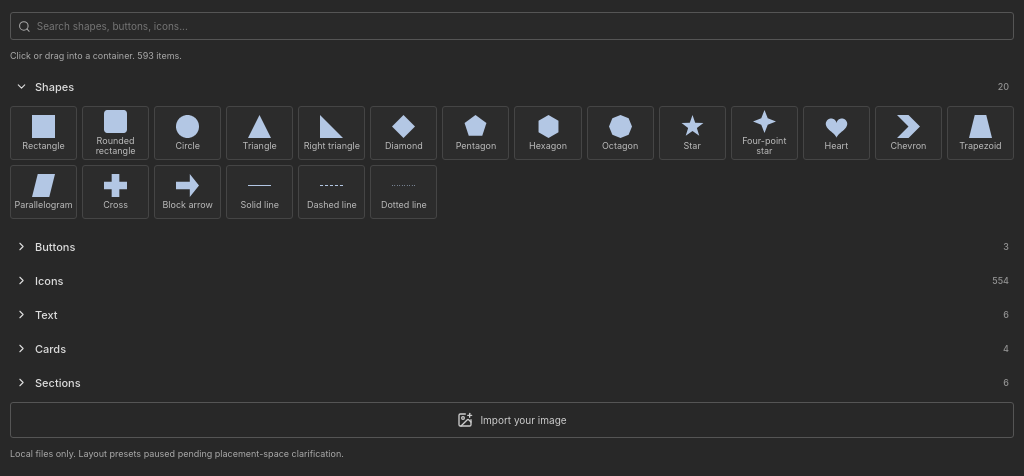
Elements accordions › reveals search matches across collapsed groups and restores prior expansion on clearing
Click the button "Shapes 20" at (55, 87), box [10,72,1014,101]
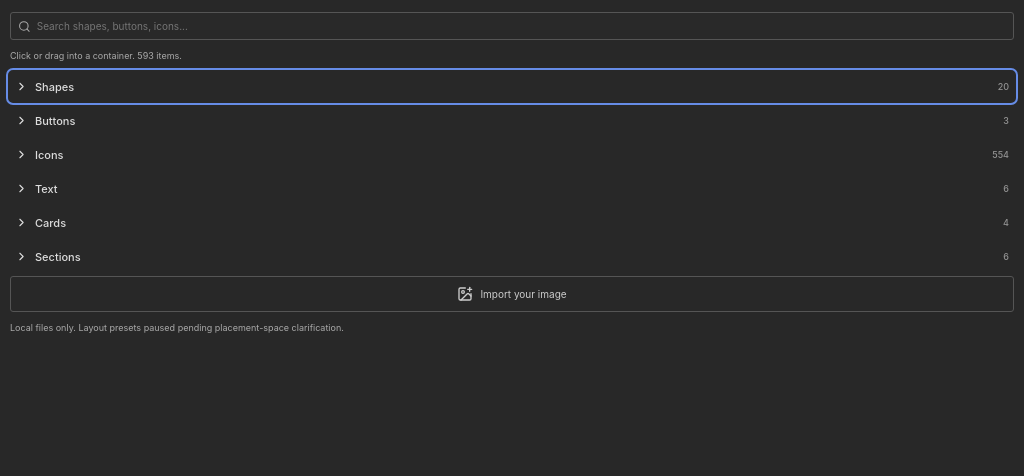
Click the button "Cards 4" at (51, 223), box [10,208,1014,237]
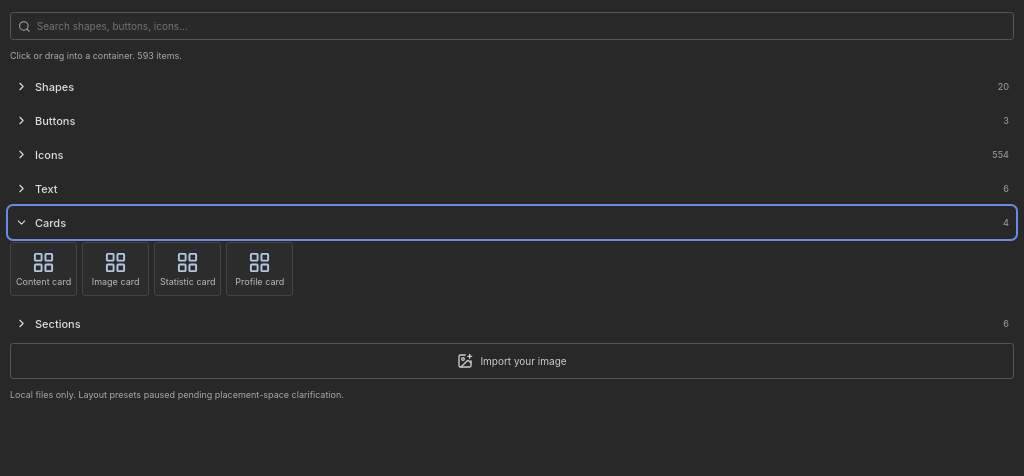
Type "home" into the field named "Search elements" at (521, 26), box [37,13,1006,39]
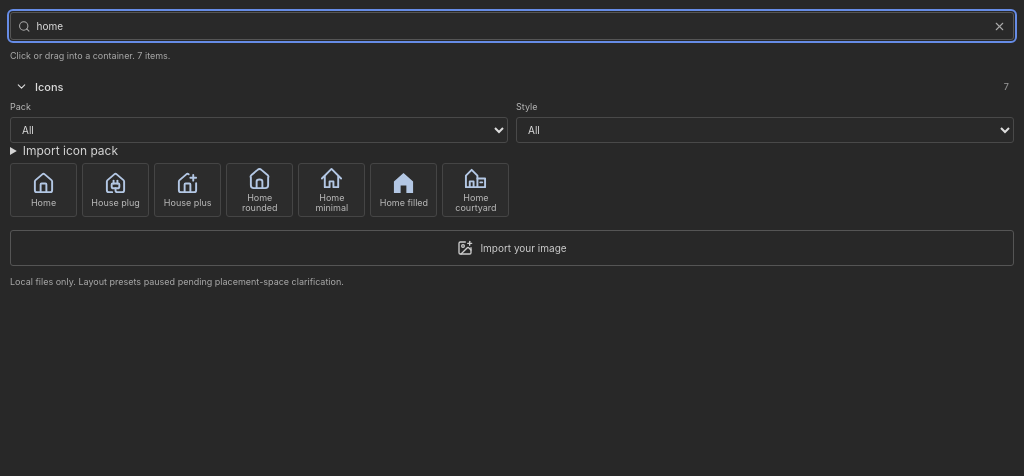
expect the button with aria-label "Insert Home" is shown: met, box [10,163,77,217]
expect the button "Icons 7" is expanded: met, box [10,72,1014,101]
Click the button named "Clear element search" at (1000, 26), box [993,20,1006,32]
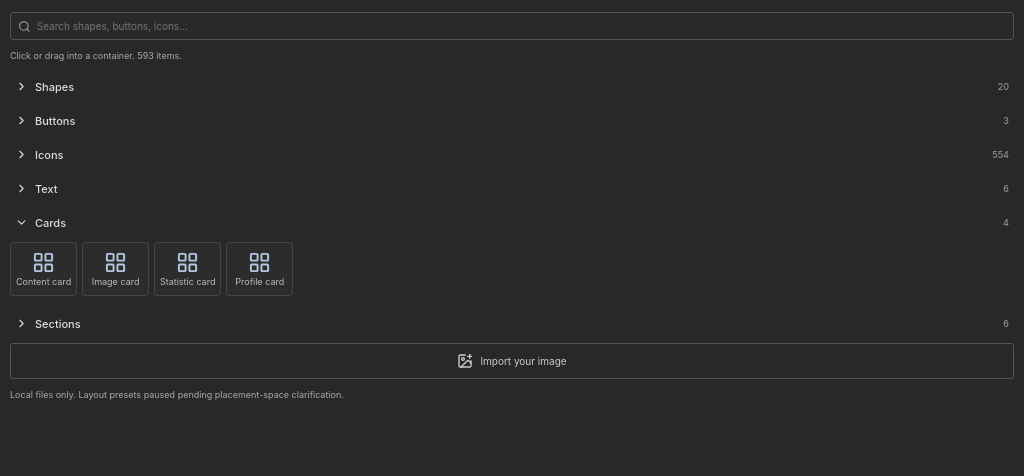
expect the button "Shapes 20" is collapsed: met, box [10,72,1014,101]
expect the button "Cards 4" is expanded: met, box [10,208,1014,237]
expect the button "Icons 554" is collapsed: met, box [10,140,1014,169]
